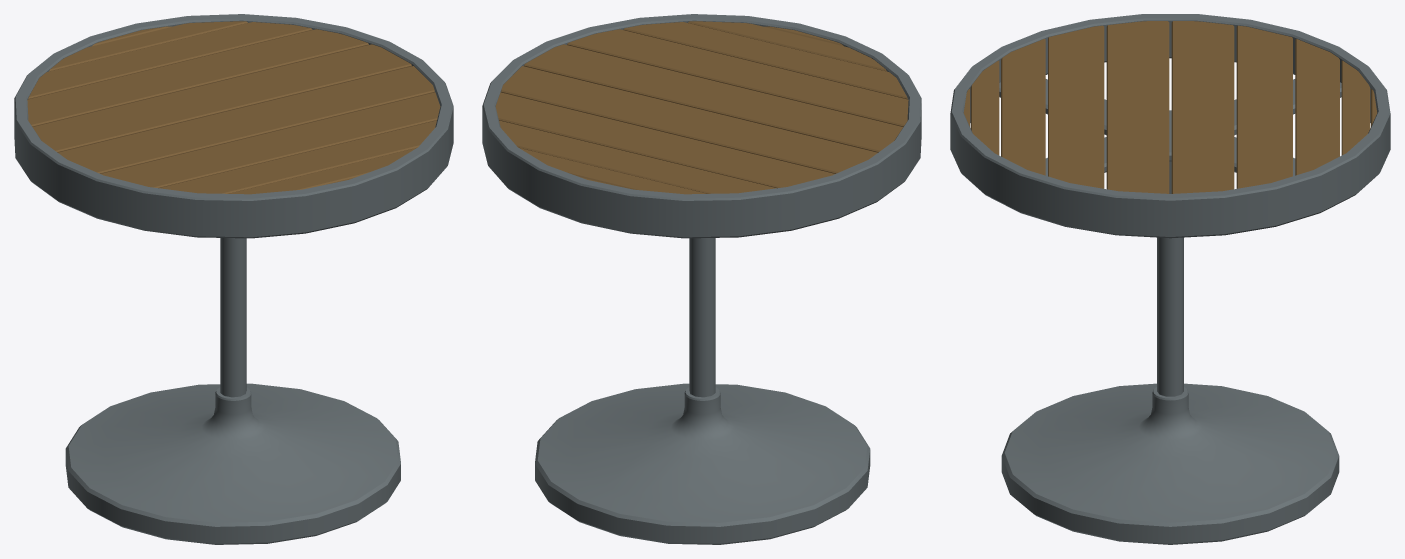
Rendered from Table_Var1.fbx.
3 renders of one model, left to right at view 1: azimuth 30°, elevation 25°; view 2: azimuth 150°, elevation 25°; view 3: azimuth 270°, elevation 25°, orthographic.
Parts seen in each view (by area): view 1: msh_Table_Model_Mesh1; view 2: msh_Table_Model_Mesh1; view 3: msh_Table_Model_Mesh1.
Part boxes in pixels (x1=…): msh_Table_Model_Mesh1: x1=14, y1=14, x2=453, y2=544; msh_Table_Model_Mesh1: x1=482, y1=14, x2=921, y2=544; msh_Table_Model_Mesh1: x1=950, y1=14, x2=1390, y2=544.
Size of the model in its own units: 0.7041 by 0.6528 by 0.7055.
